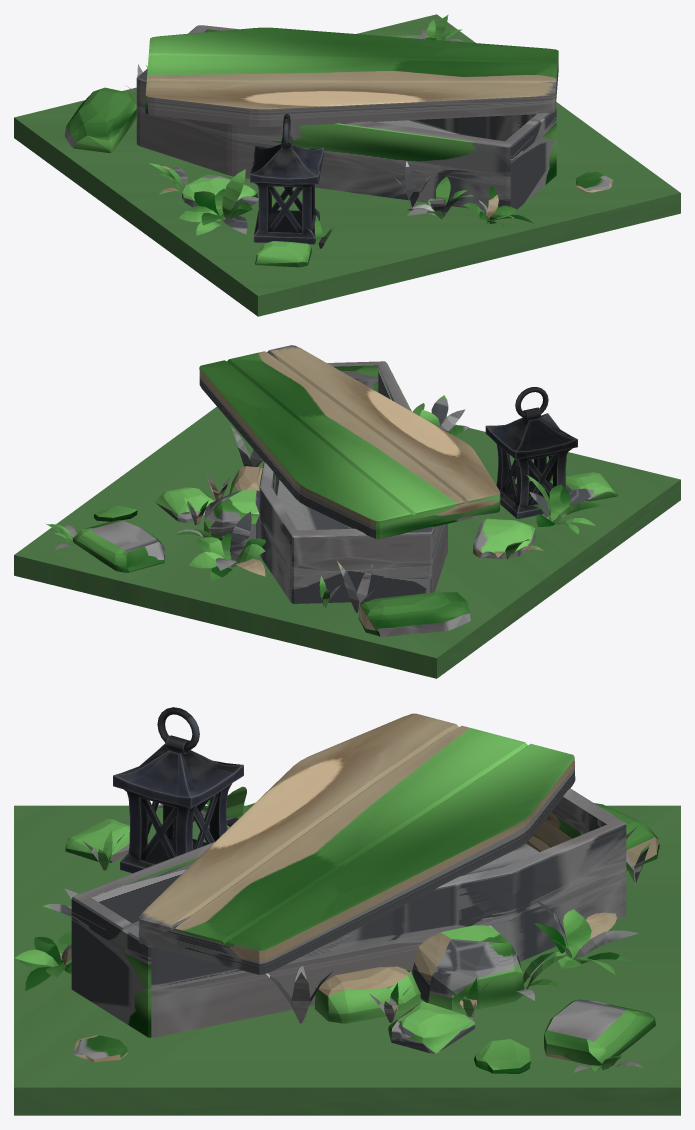
Rendered from CoffinClutterfbx.fbx.
The picture shows the model from 3 angles, top to bottom: view 1: azimuth 30°, elevation 25°; view 2: azimuth 150°, elevation 25°; view 3: azimuth 270°, elevation 25°; orthographic projection. The views are drawn at different scales.
Parts seen in each view (by area): view 1: Cube.009, Lantern; view 2: Cube.009, Lantern; view 3: Cube.009, Lantern.
Part boxes in pixels (x1,y1,x2,y2): Cube.009: (14, 14, 680, 316); Lantern: (250, 114, 323, 244); Cube.009: (14, 345, 680, 678); Lantern: (485, 387, 577, 519); Cube.009: (14, 713, 680, 1115); Lantern: (113, 707, 243, 873).
Bounding box in the file's own units: 200 × 61.13 × 200.
